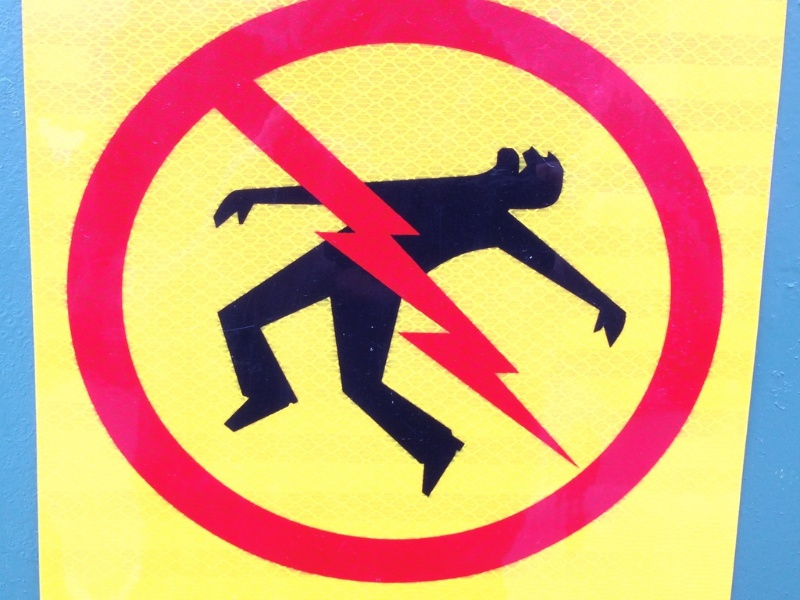danger_death: (31, 1, 737, 600)
